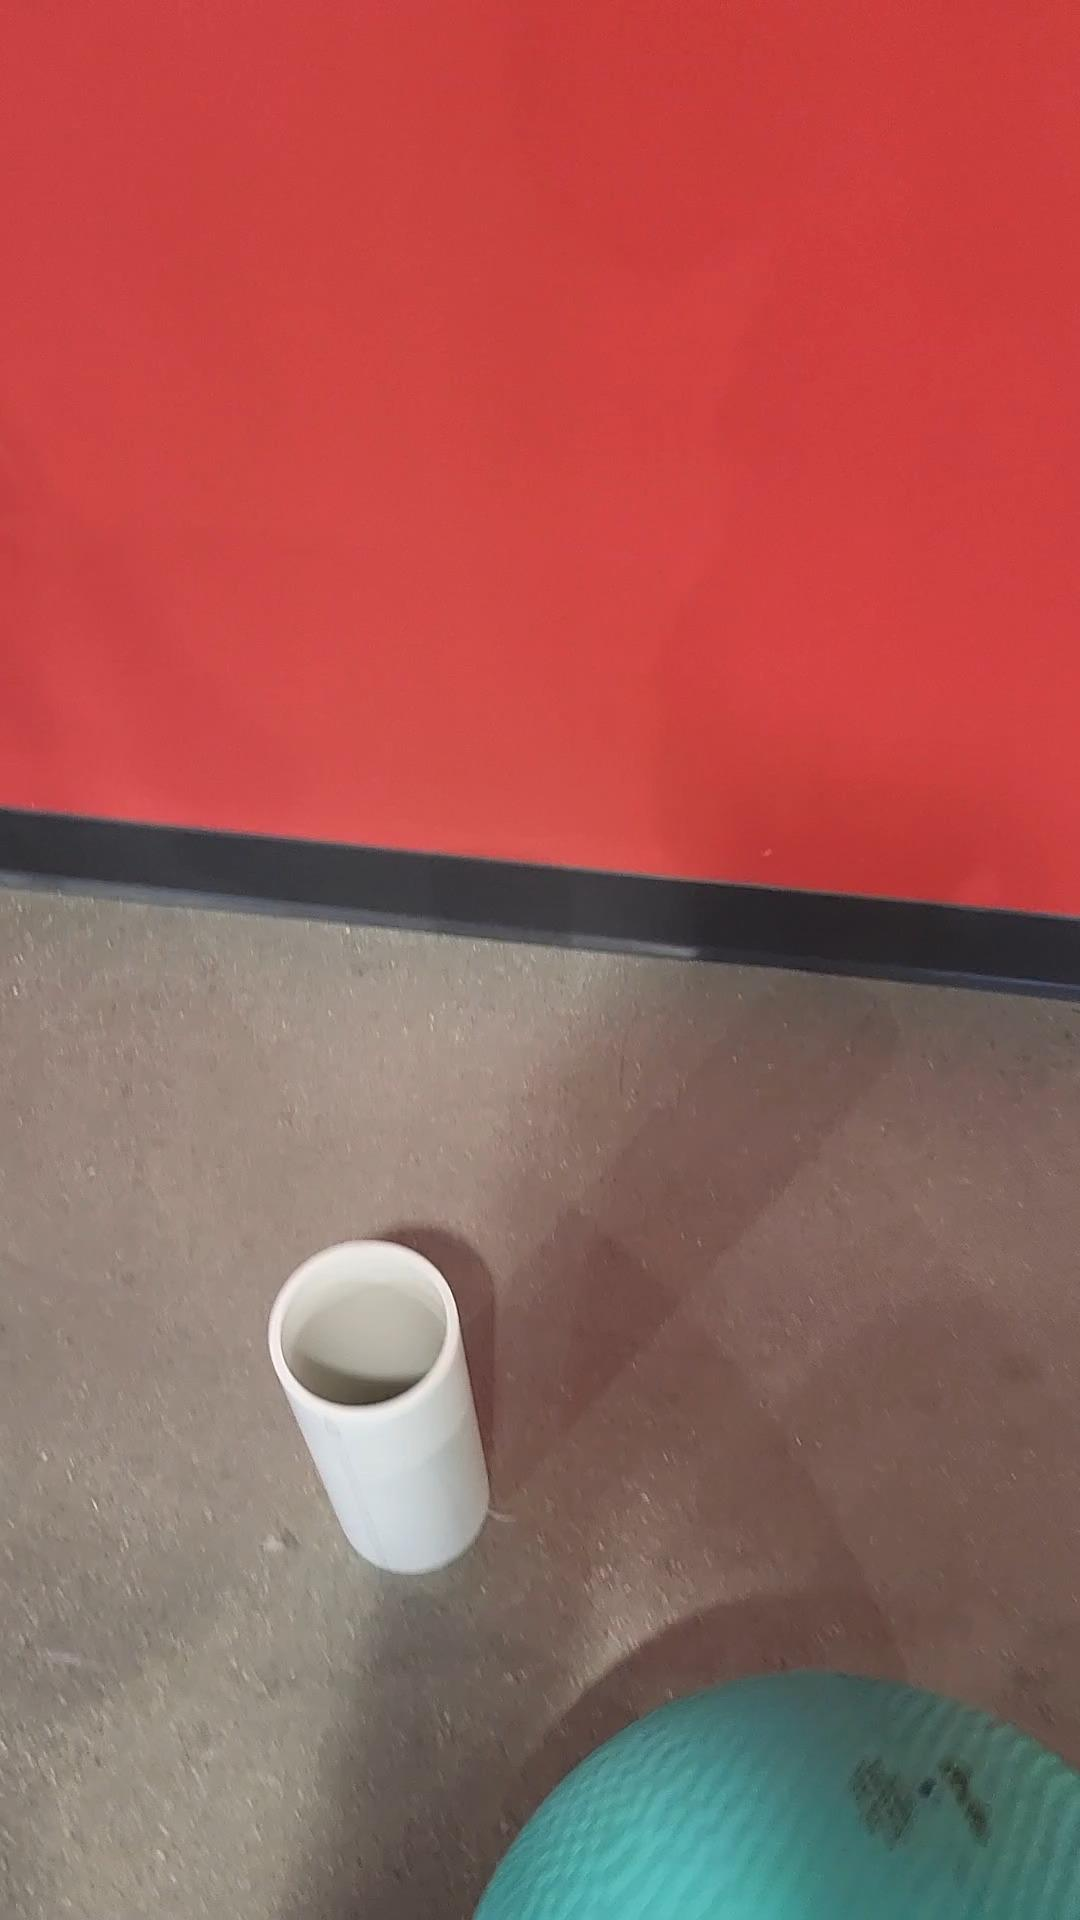algae: (468, 1663, 1079, 1920), (268, 1236, 496, 1577)
